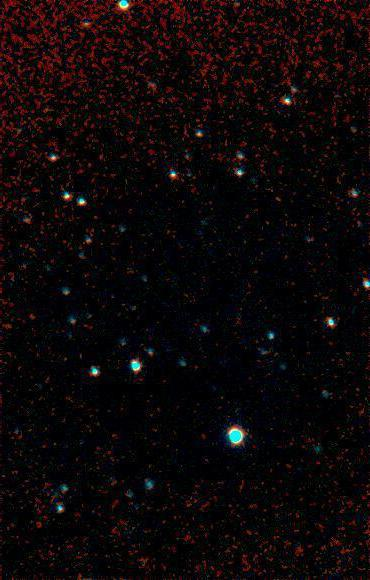star: (263, 185, 293, 215)
